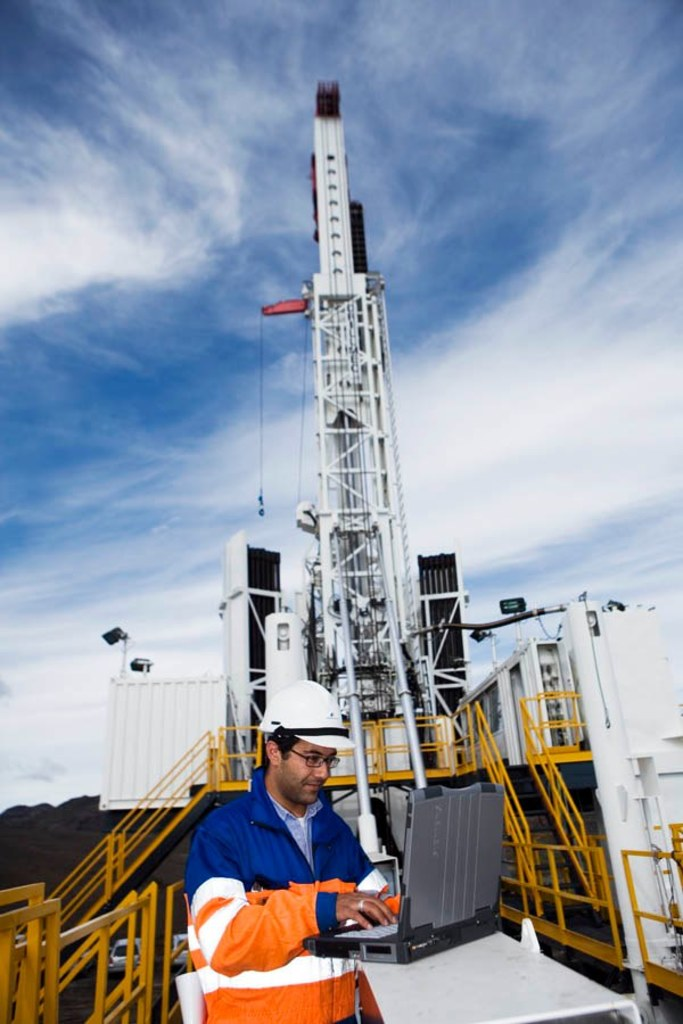Person: (184, 679, 401, 1023)
